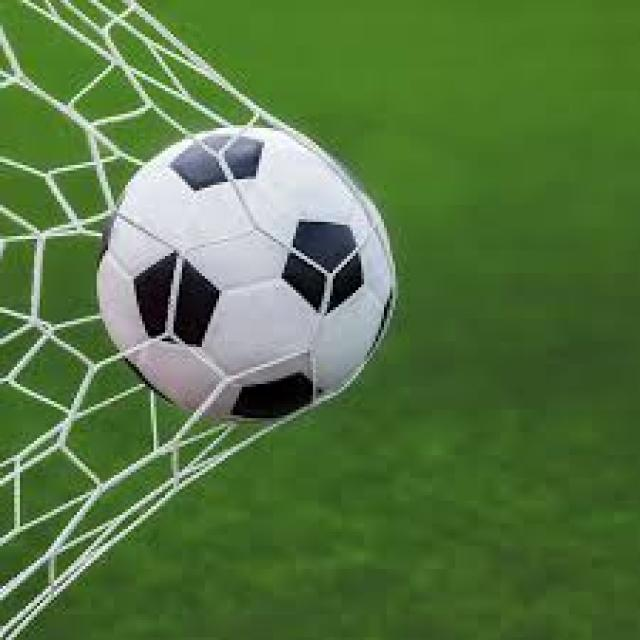ball: (96, 126, 398, 424)
